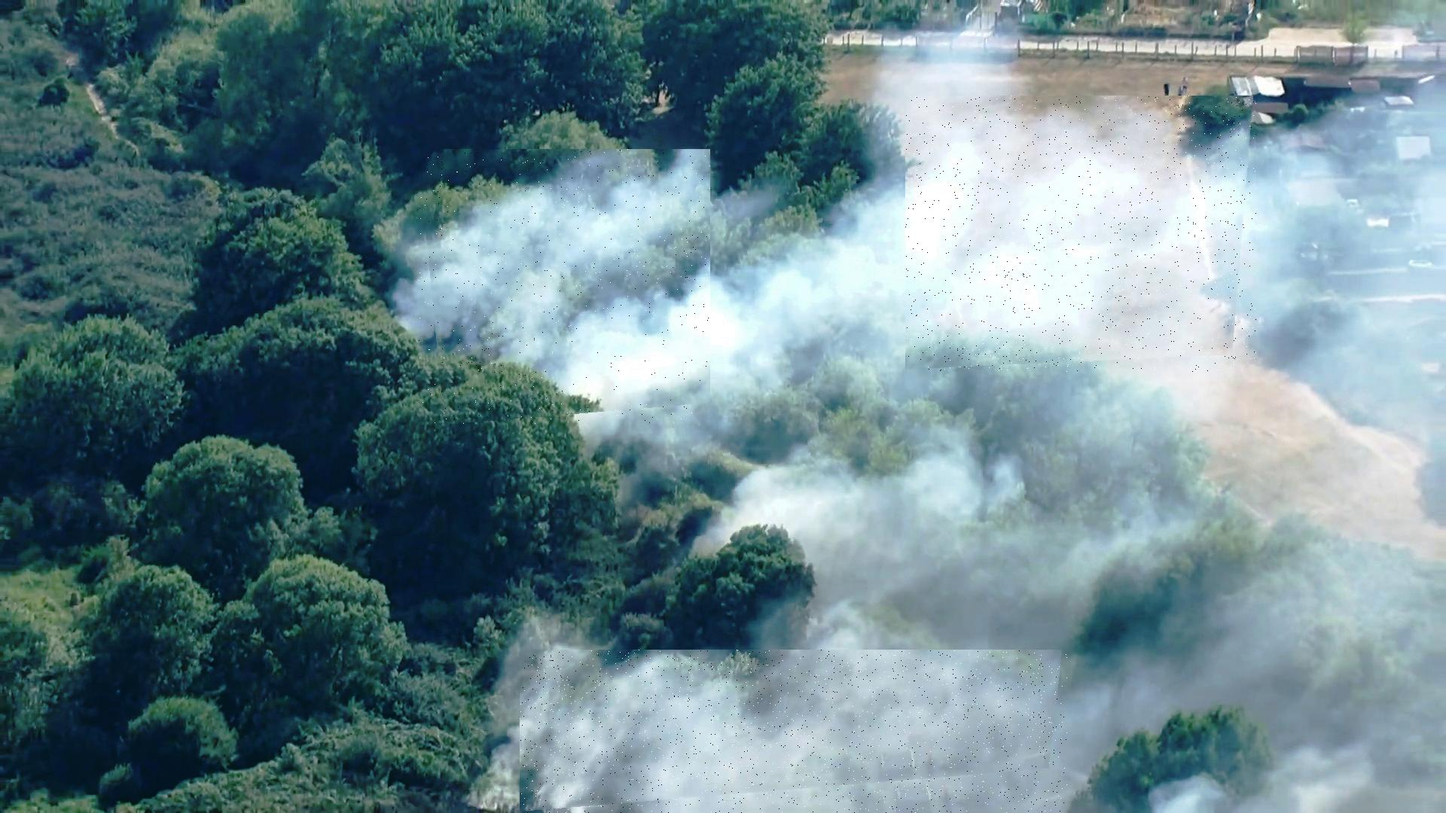smoke: (906, 96, 1257, 372), (520, 650, 1067, 813), (418, 149, 710, 425)
